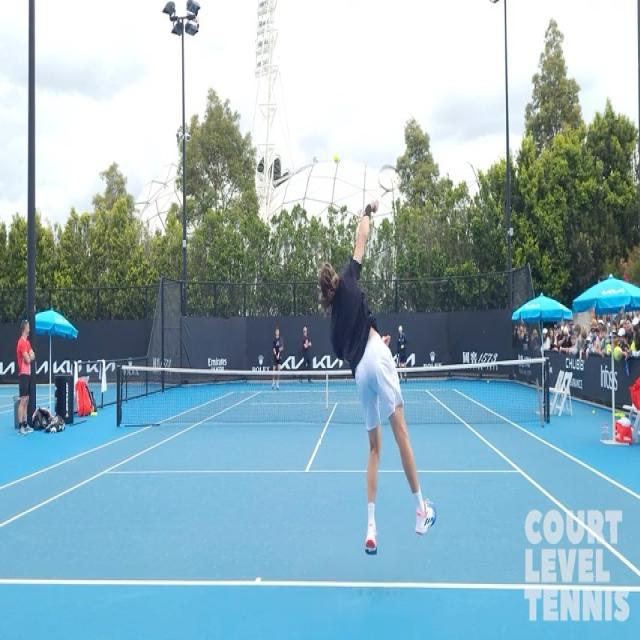serve_hit: (311, 99, 433, 553)
